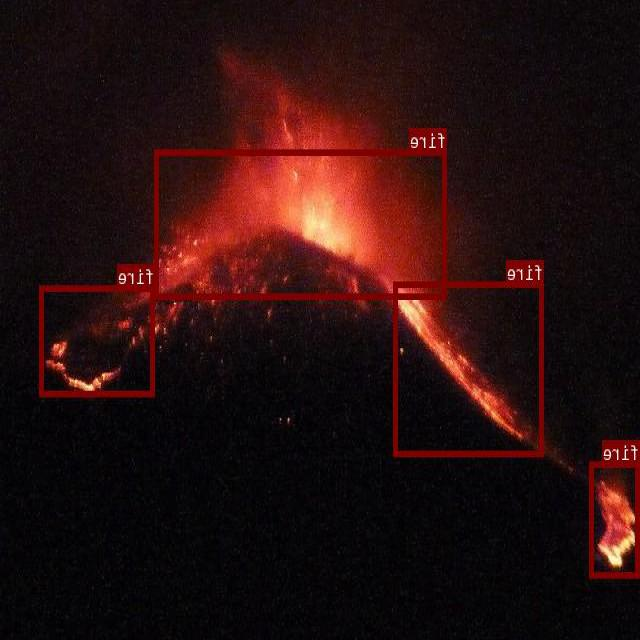fire: (156, 149, 448, 298), (395, 280, 544, 455), (41, 284, 156, 396), (591, 460, 640, 576)
